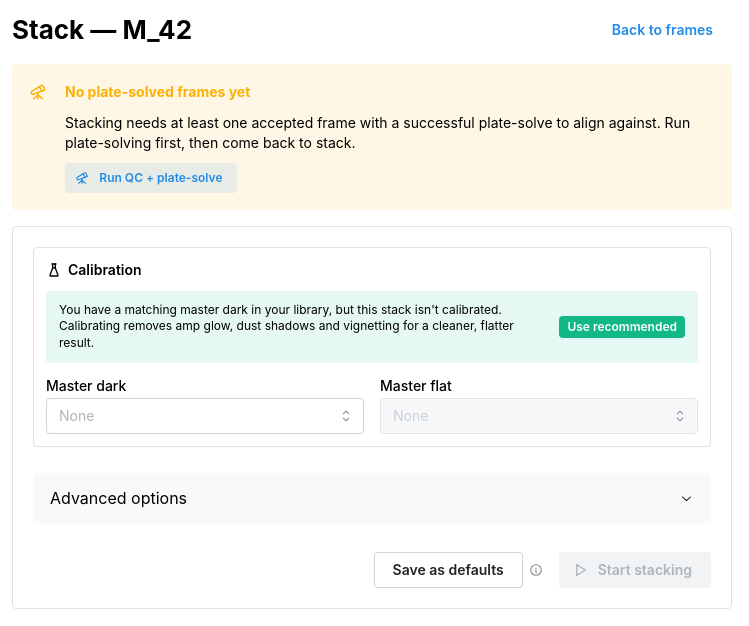
Test: StackView › warns when a chosen dark's exposure is far from the subs
The image size is (749, 626).
Expected: the button "Use recommended" is shown, [567,317,677,337]
Click the button "Use recommended": x=622, y=327 [559,316,685,338]
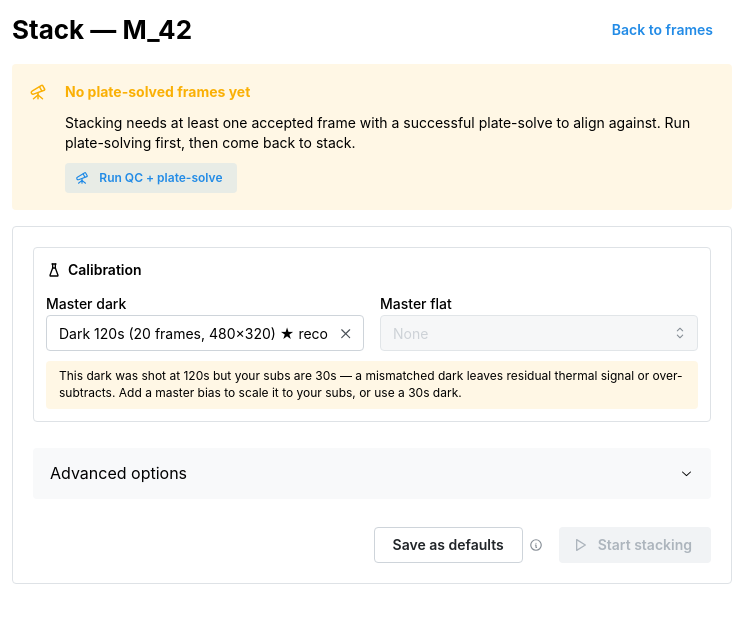
Expected: the text "shot at 120s but your subs are 30s" is shown, [59,368,683,400]
